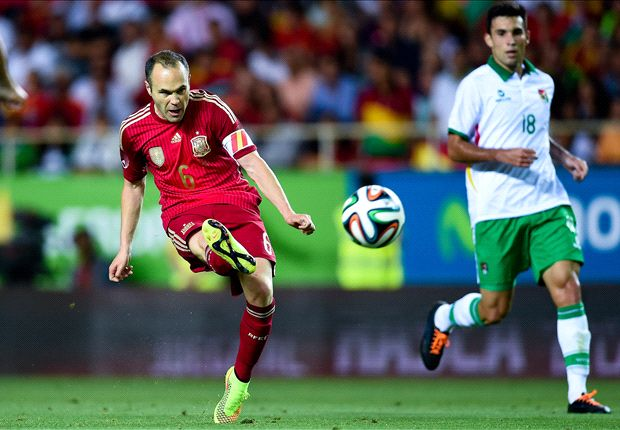football: (340, 184, 407, 250)
